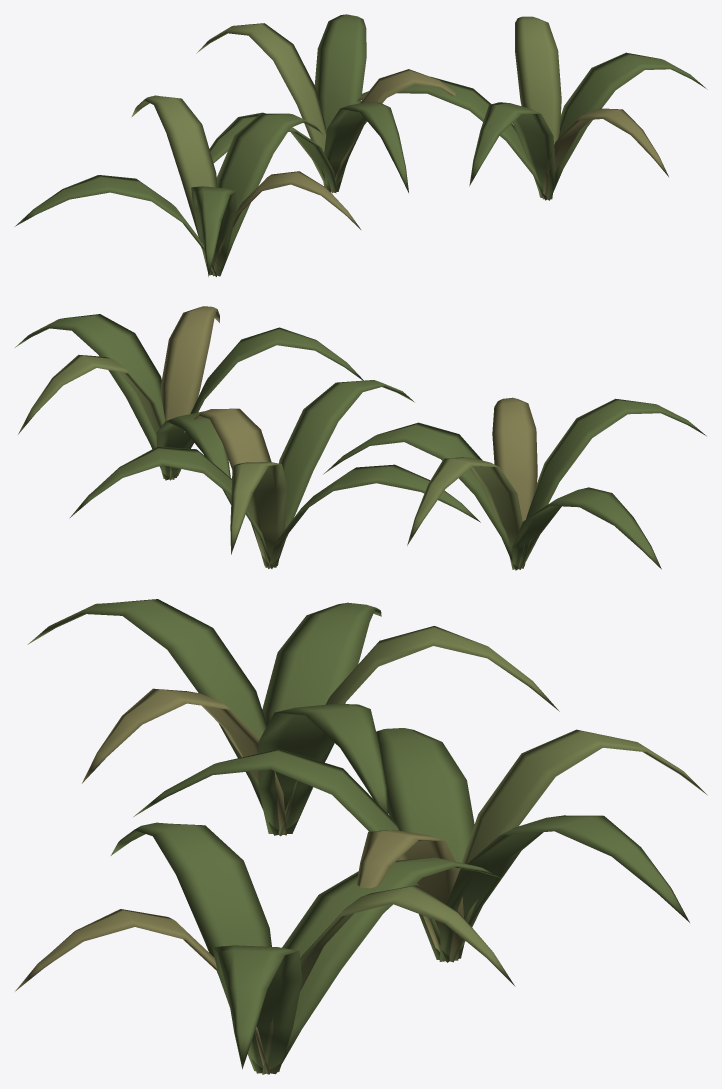
Rendered from city_planting_05_spreading_clump.glb.
The picture shows the model from 3 angles, top to bottom: view 1: azimuth 30°, elevation 25°; view 2: azimuth 150°, elevation 25°; view 3: azimuth 270°, elevation 25°; orthographic projection. The views are drawn at different scales.
Parts seen in each view (by area): view 1: spreading_clump_blades; view 2: spreading_clump_blades; view 3: spreading_clump_blades.
Boxes of the visible parts, bbox=[...] form: spreading_clump_blades: bbox=[15, 14, 707, 276]; spreading_clump_blades: bbox=[15, 306, 706, 570]; spreading_clump_blades: bbox=[15, 599, 707, 1074].
Size of the model in its own units: 1 by 0.2 by 0.62.
